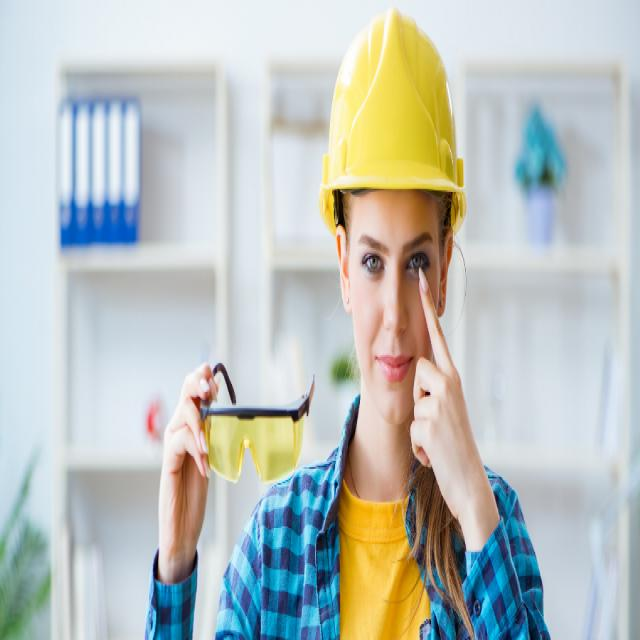Helmet: (318, 6, 474, 232)
Protective Glasses: (194, 349, 320, 492)
